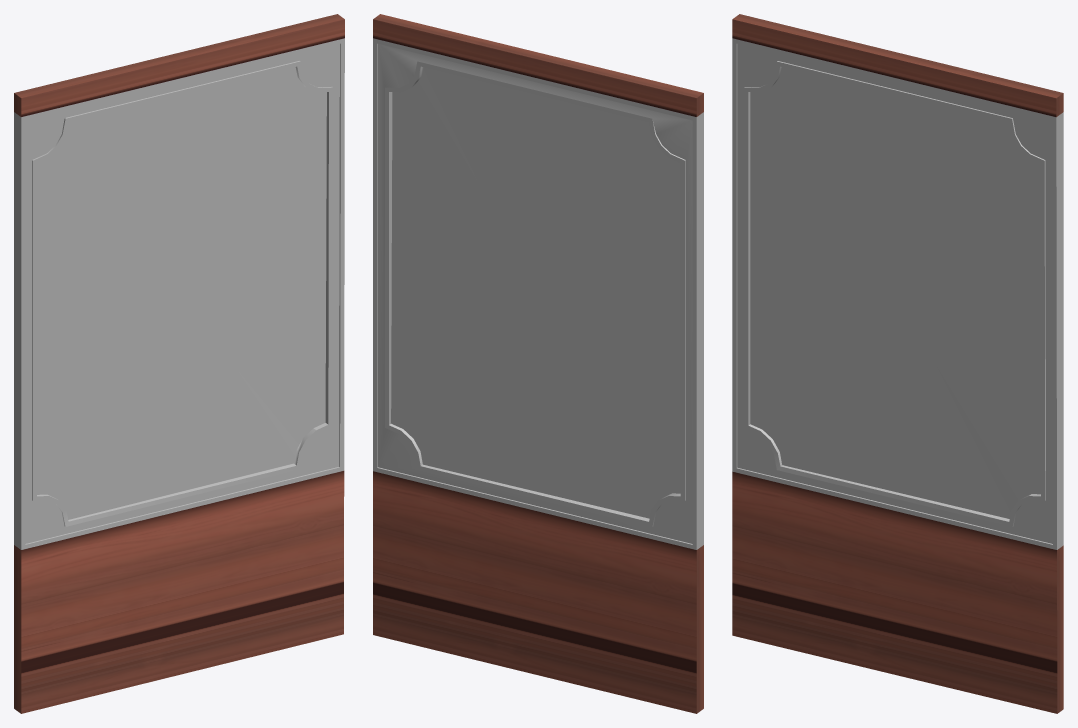
Rendered from Window.fbx.
The picture shows the model from 3 angles, left to right: view 1: azimuth 30°, elevation 25°; view 2: azimuth 150°, elevation 25°; view 3: azimuth 330°, elevation 25°; orthographic projection.
Visible parts, largest first — view 1: pCube106; view 2: pCube106; view 3: pCube106.
Boxes of the visible parts, x1,y1,x2,y2 form: pCube106: (14,14,344,713); pCube106: (373,14,703,713); pCube106: (732,14,1063,713).
Bounding box in the file's own units: 1.1 × 0.0425 × 2.
